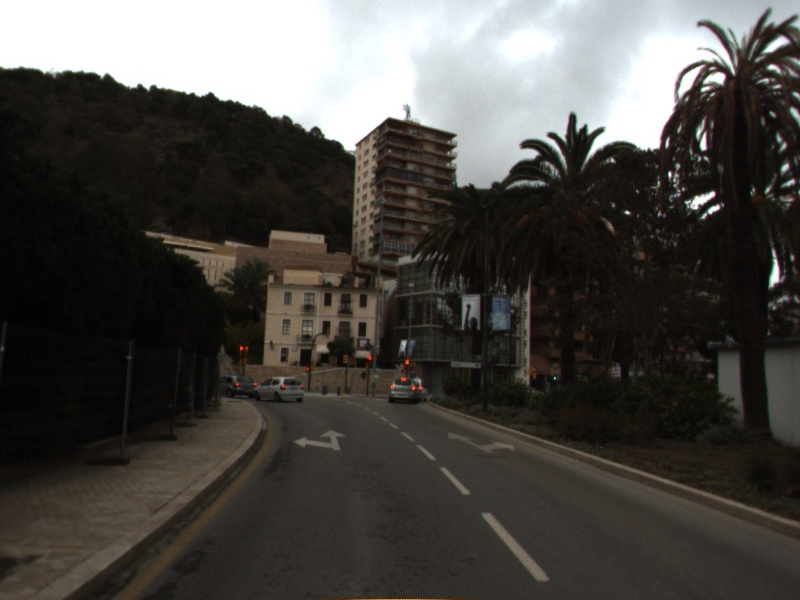STRAIGHT_LEFT: (292, 428, 349, 452)
STRAIGHT_RIGHT: (446, 430, 517, 454)
